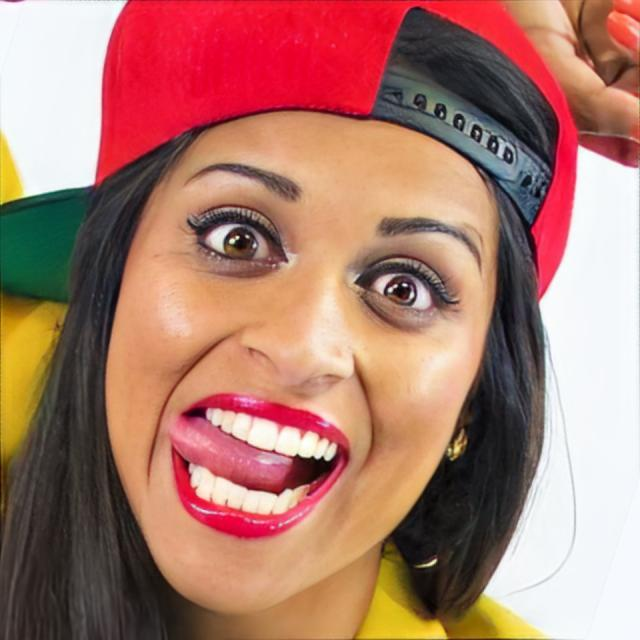surprise: (104, 108, 500, 618)
